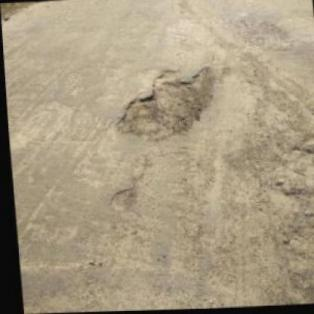Hueco: (106, 65, 219, 144), (103, 186, 133, 214)
